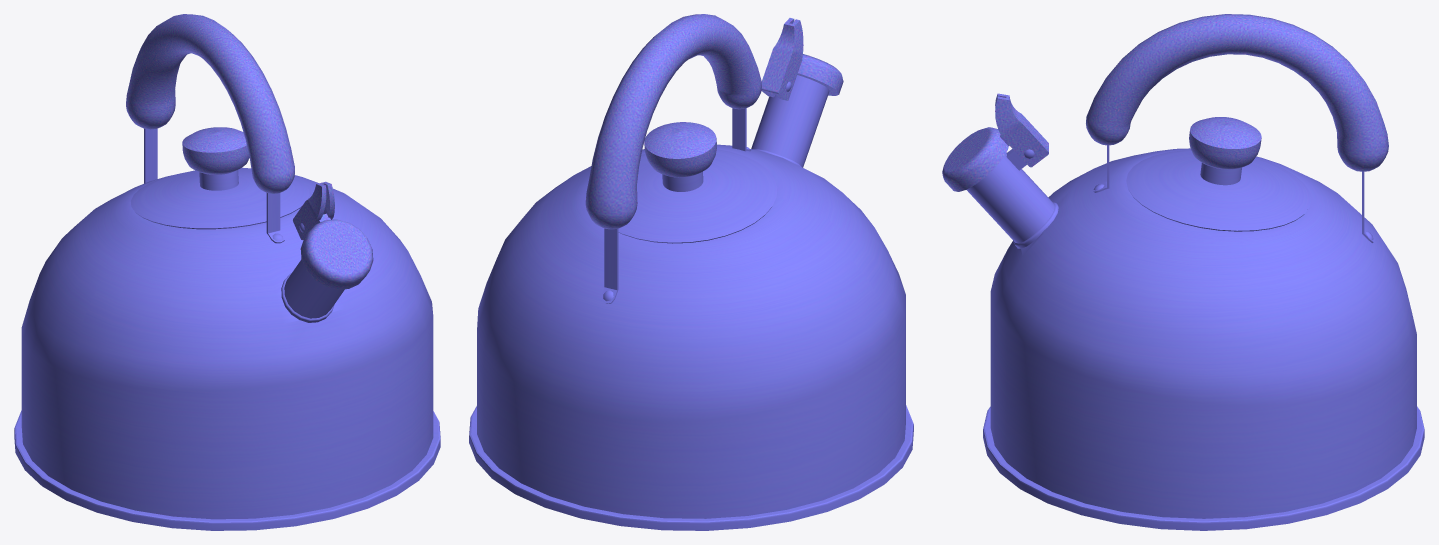
File: teapot.fbx
3 renders of one model, left to right at view 1: azimuth 30°, elevation 25°; view 2: azimuth 150°, elevation 25°; view 3: azimuth 270°, elevation 25°, orthographic. The views are drawn at different scales.
Visible parts, largest first — view 1: Sphere001; view 2: Sphere001; view 3: Sphere001.
Part boxes in pixels (x1,y1,x2,y2): Sphere001: (14, 14, 440, 530); Sphere001: (469, 14, 913, 530); Sphere001: (942, 14, 1424, 530).
Bounding box in the file's own units: 0.2287 × 0.2482 × 0.239.
